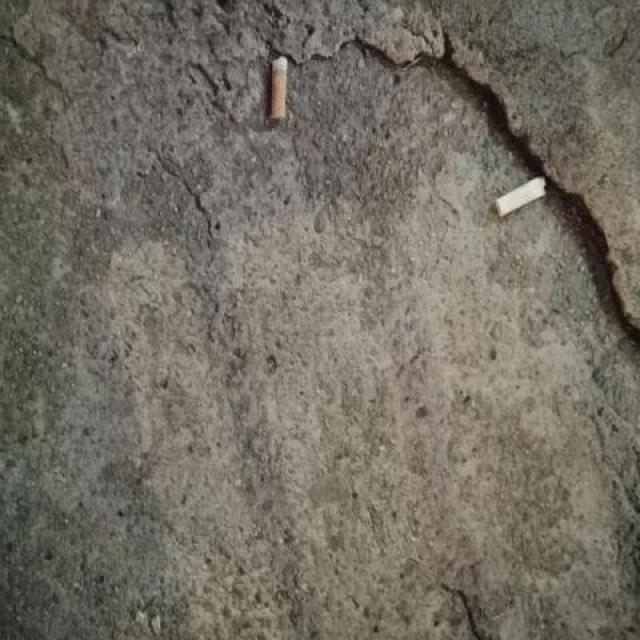non-organic waste: (492, 172, 552, 220), (265, 52, 291, 124)
